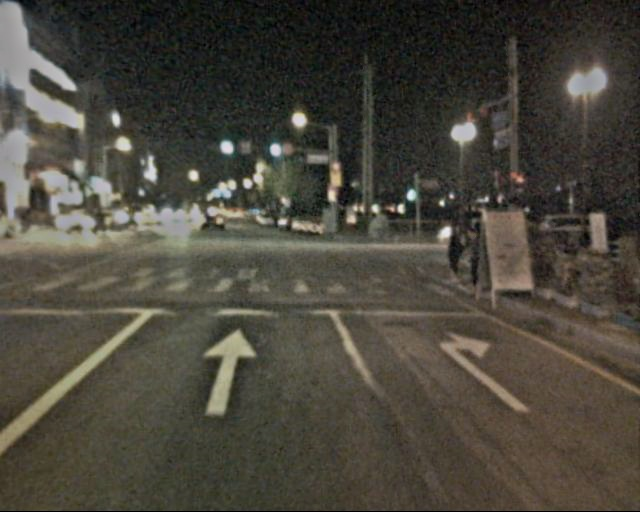person: (437, 211, 465, 280), (463, 217, 488, 291)
